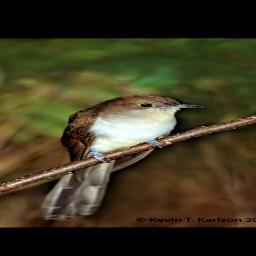Cuckoo: (38, 94, 201, 220)
